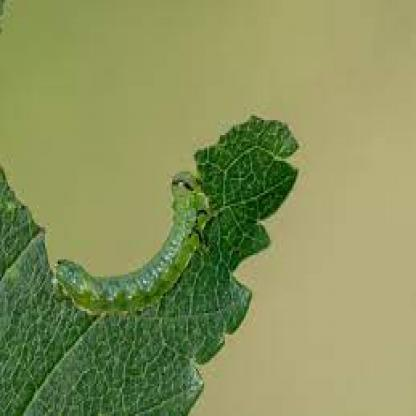sawfly: (53, 167, 218, 315)
